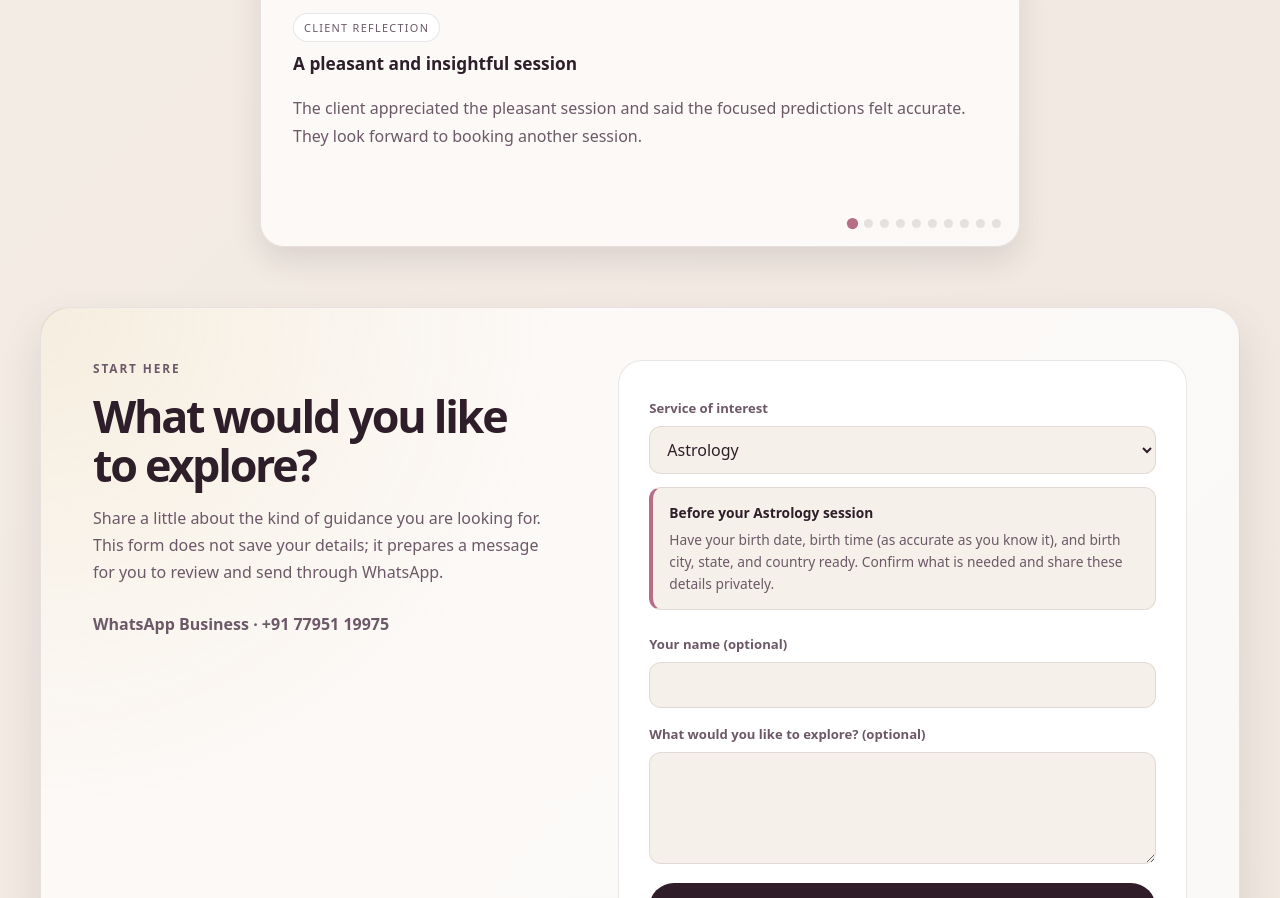
Test: updates preparation guidance when the selected service changes
(page scrolled)
Expected: the text "Have your birth date, birth time" is shown, [669, 530, 1123, 593]
Select "Tarot" in the dropdown labelled "Service of interest". click: (903, 450)
box: [649, 426, 1156, 474]
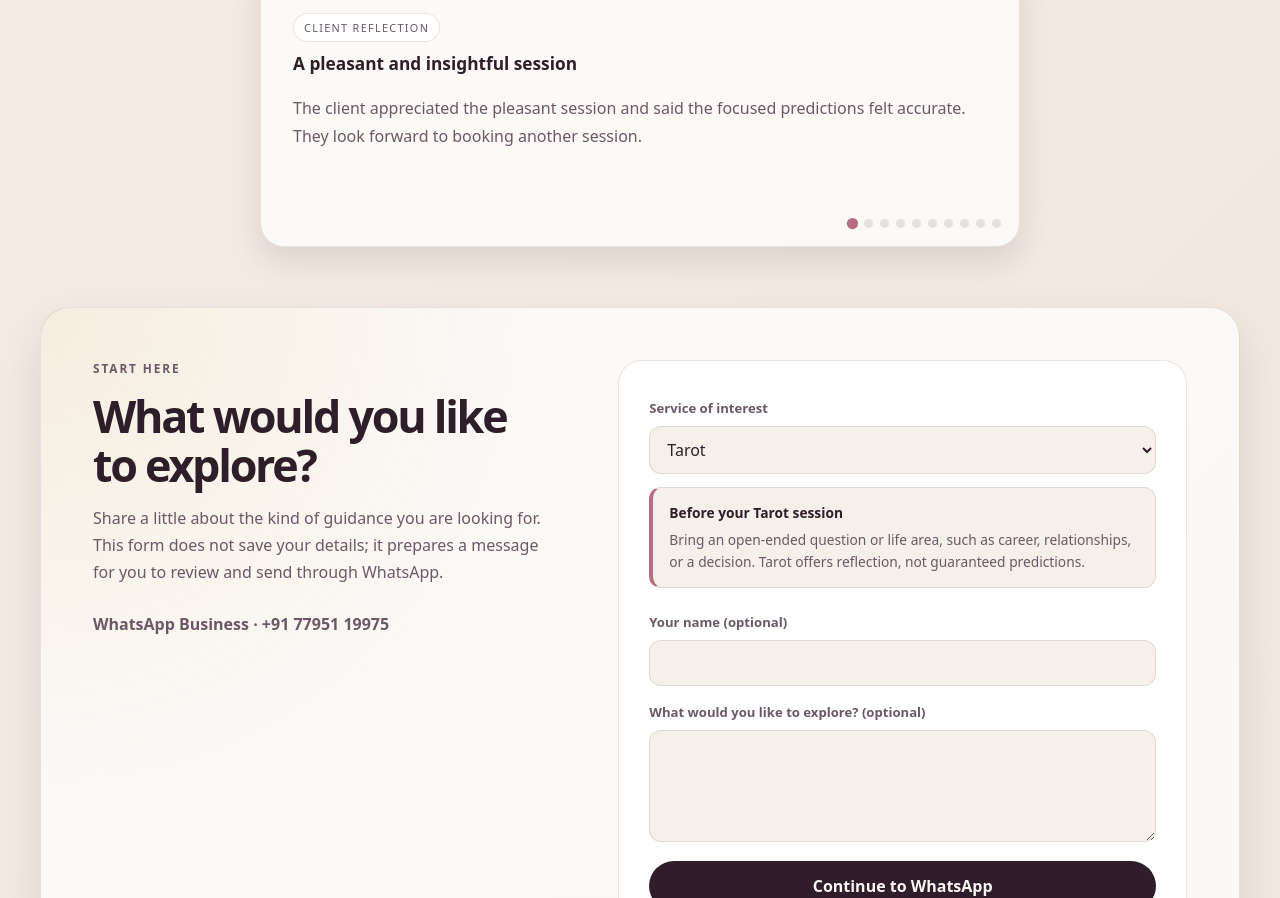
Now the text "Bring an open-ended question or life area" is shown, box [669, 530, 1131, 571]
